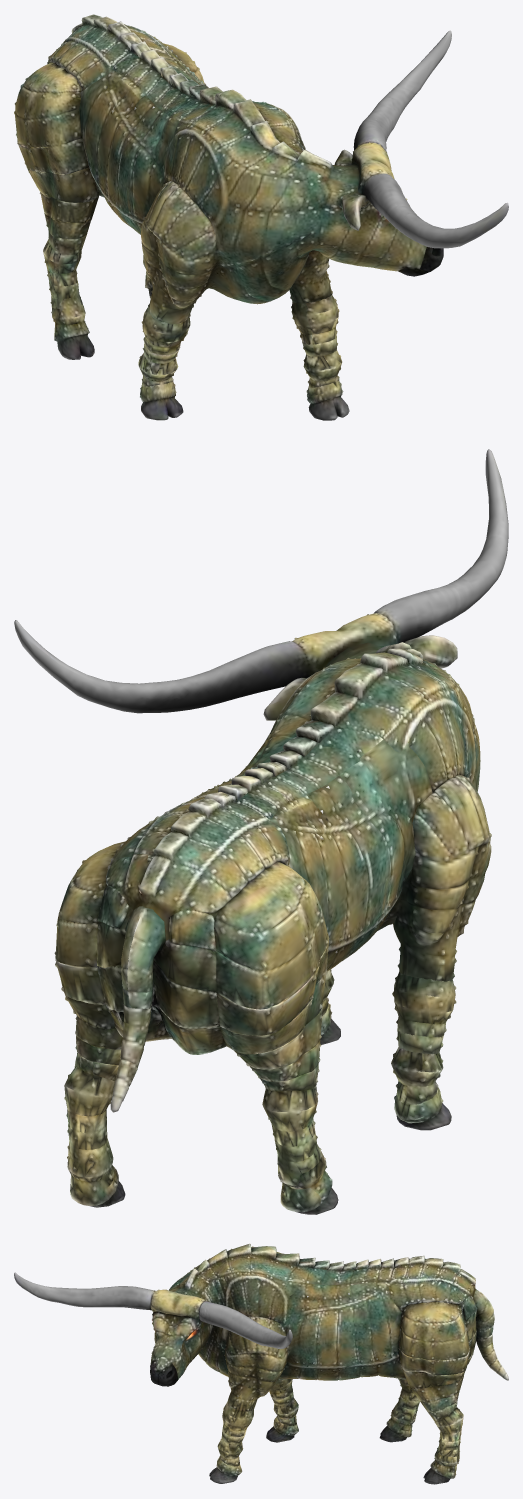
File: MZ4250 - Bronze Ox Golem_aged.glb
The picture shows the model from 3 angles, top to bottom: view 1: azimuth 30°, elevation 25°; view 2: azimuth 150°, elevation 25°; view 3: azimuth 270°, elevation 25°; orthographic projection. The views are drawn at different scales.
Parts seen in each view (by area): view 1: ORGANIC BASE SPHERE.001; view 2: ORGANIC BASE SPHERE.001; view 3: ORGANIC BASE SPHERE.001.
Boxes of the visible parts, box(x1,y1,x2,y2) form: ORGANIC BASE SPHERE.001: box(14, 14, 508, 420); ORGANIC BASE SPHERE.001: box(14, 449, 508, 1214); ORGANIC BASE SPHERE.001: box(14, 1243, 508, 1484).
Bounding box in the file's own units: 85.23 × 80.04 × 167.
1 material, 1 textured.
